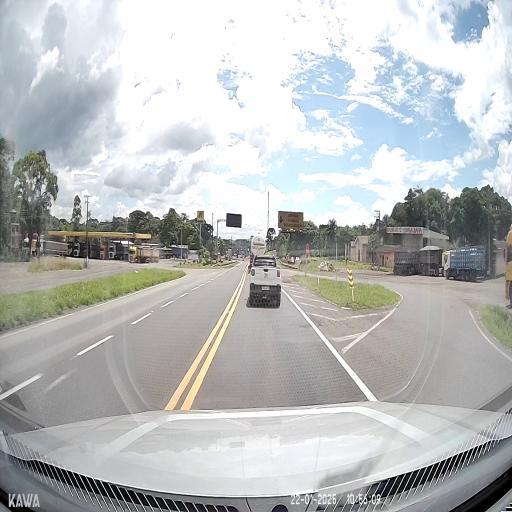R-1: (306, 244, 309, 258)
